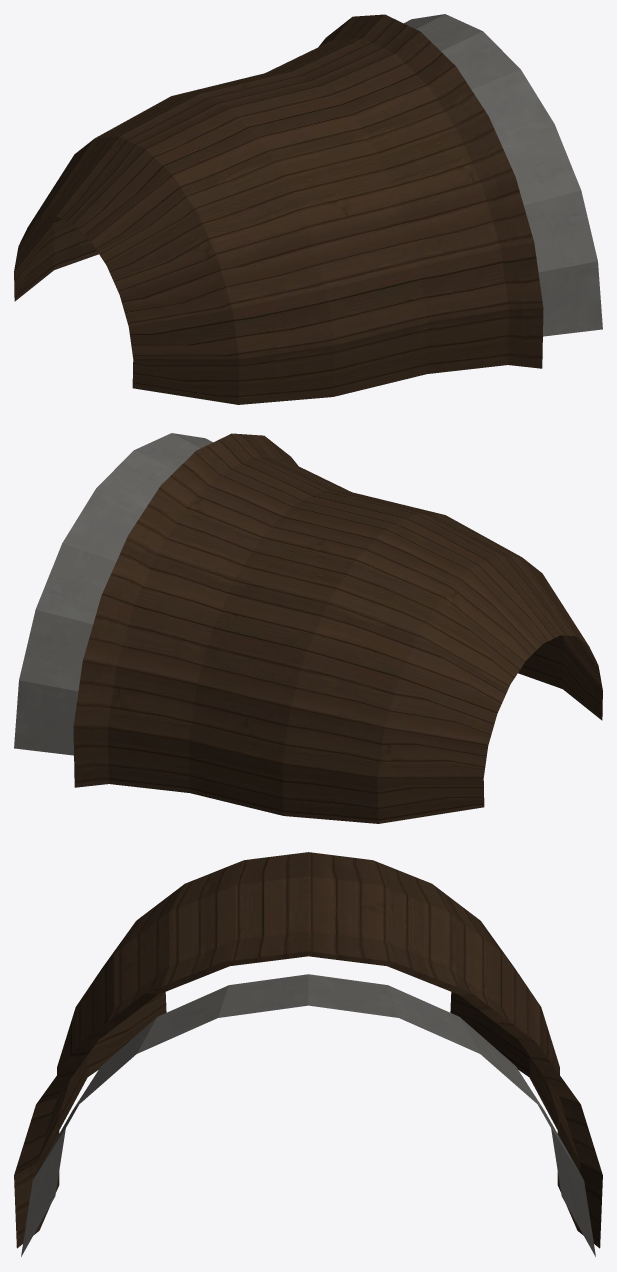
Rendered from eq_past_1_shoulder.glb.
The picture shows the model from 3 angles, top to bottom: view 1: azimuth 30°, elevation 25°; view 2: azimuth 150°, elevation 25°; view 3: azimuth 270°, elevation 25°; orthographic projection. The views are drawn at different scales.
Visible parts, largest first — view 1: eq_past_1_shoulder; view 2: eq_past_1_shoulder; view 3: eq_past_1_shoulder.
Part boxes in pixels (bbox=[...]): eq_past_1_shoulder: bbox=[14, 14, 602, 404]; eq_past_1_shoulder: bbox=[14, 433, 602, 823]; eq_past_1_shoulder: bbox=[14, 852, 602, 1256].
Size of the model in its own units: 0.197 by 0.1141 by 0.2047.
2 materials, 2 textured.
